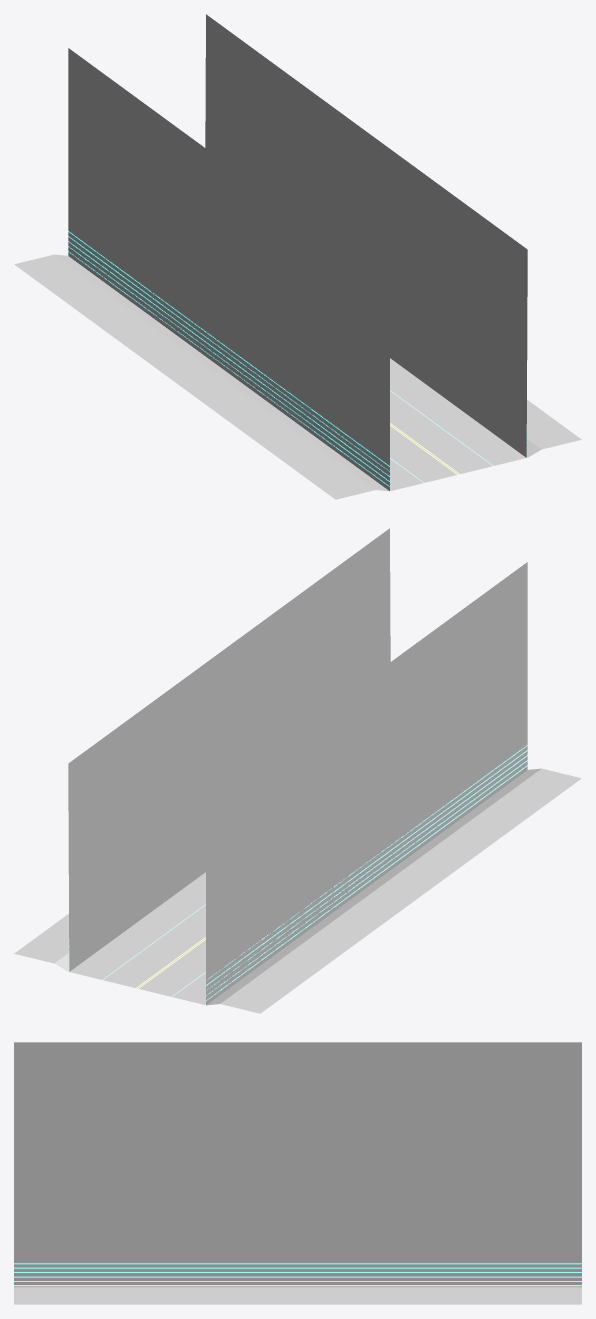
File: RoadStraight.fbx
3 renders of one model, top to bottom at view 1: azimuth 30°, elevation 25°; view 2: azimuth 150°, elevation 25°; view 3: azimuth 270°, elevation 25°, orthographic. The views are drawn at different scales.
Visible parts, largest first — view 1: Plane.046, Plane.045, Plane.041; view 2: Plane.046, Plane.045, Plane.041; view 3: Plane.045, Plane.046, Plane.041.
Part boxes in pixels (left/top/right/bottom): Plane.046: left=68, top=48, right=389, bottom=490; Plane.045: left=205, top=14, right=527, bottom=457; Plane.041: left=14, top=231, right=581, bottom=499; Plane.046: left=206, top=562, right=527, bottom=1004; Plane.045: left=68, top=528, right=390, bottom=971; Plane.041: left=14, top=745, right=581, bottom=1013; Plane.045: left=14, top=1101, right=581, bottom=1284; Plane.046: left=14, top=1042, right=581, bottom=1101; Plane.041: left=14, top=1263, right=581, bottom=1304.
Bounding box in the file's own units: 4404 × 3556 × 9962.
